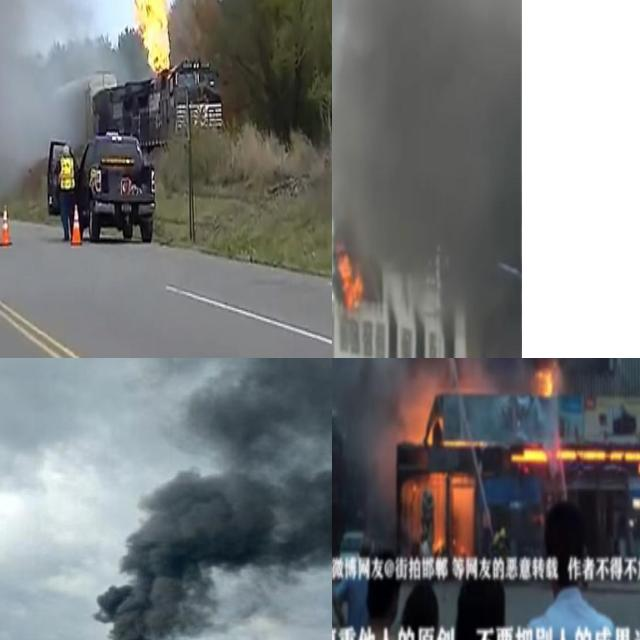fire: (127, 0, 168, 77), (336, 248, 364, 311), (535, 364, 556, 396)
smoke: (332, 0, 526, 348), (94, 358, 332, 640)
